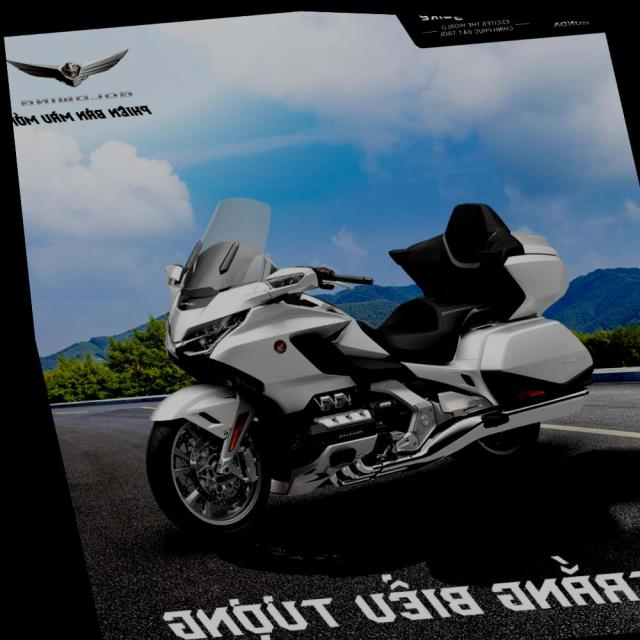Gold Wing: (76, 151, 618, 561)
